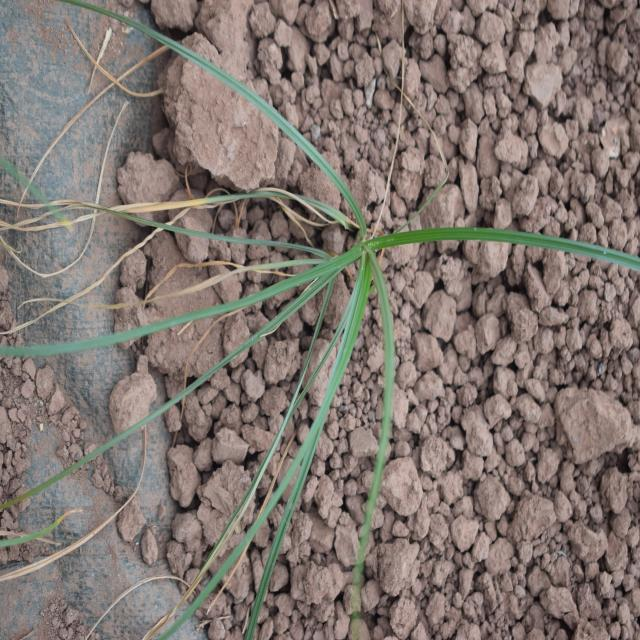sedge: (52, 50, 514, 565)
